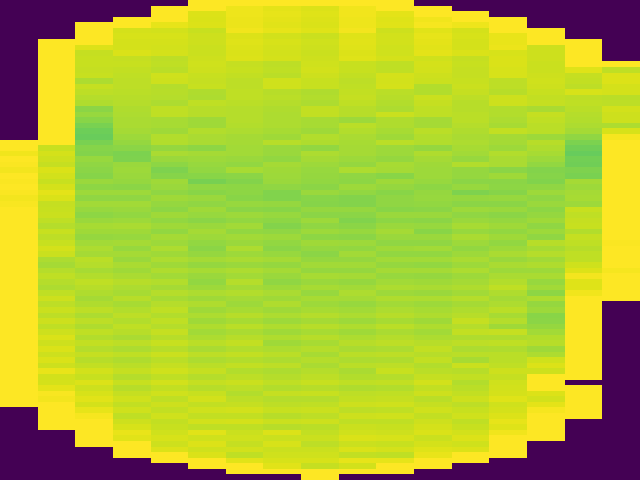cylinder: (5, 5, 640, 480)
